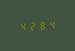eight: (36, 20, 44, 30)
four: (18, 20, 26, 31), (45, 19, 53, 30)
two: (27, 20, 35, 31)
